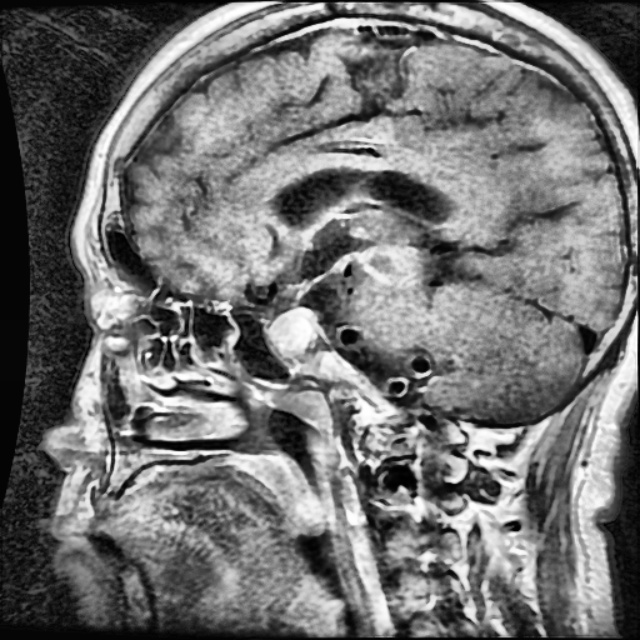Pituitary: (269, 304, 318, 369)
